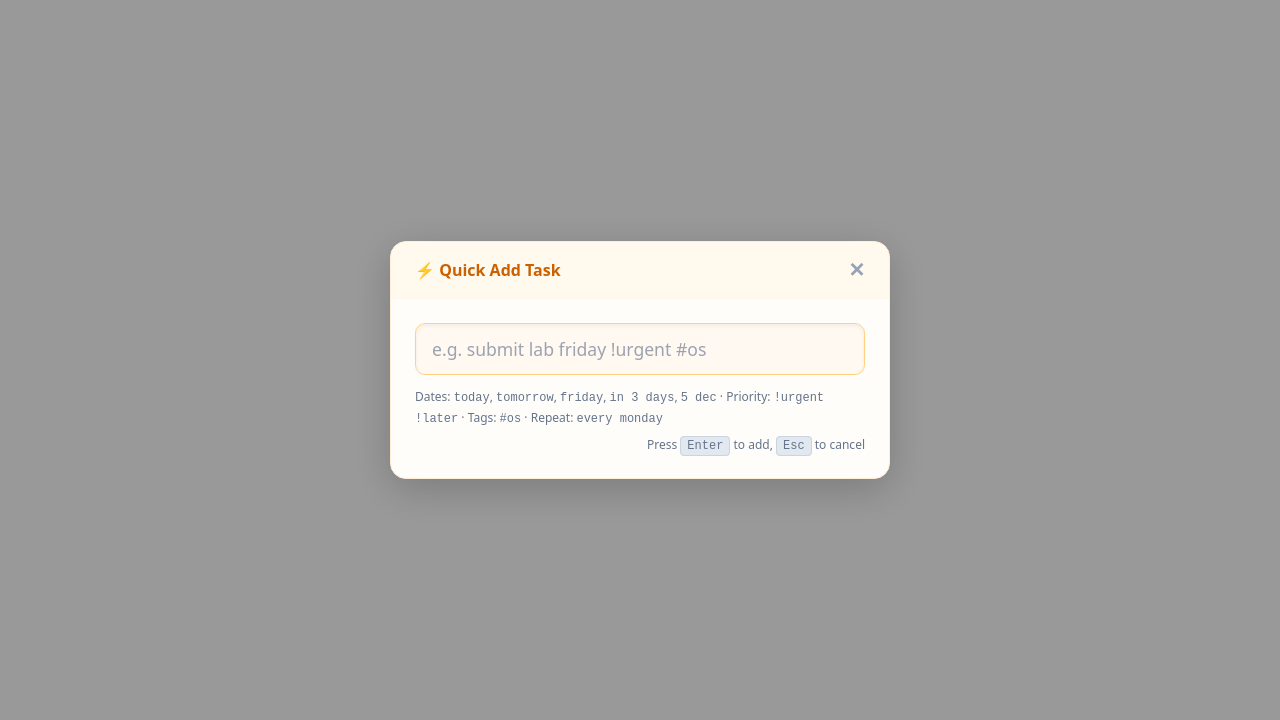
Test: QuickAddModal › previews what will be created
Type "submit lab tomorrow !urgent #os every week https://moodle.example.edu/x" into the field named "Task".
click(640, 349); type("submit lab tomorrow !urgent #os every week https://moodle.example.edu/x")  # box [415, 323, 865, 375]
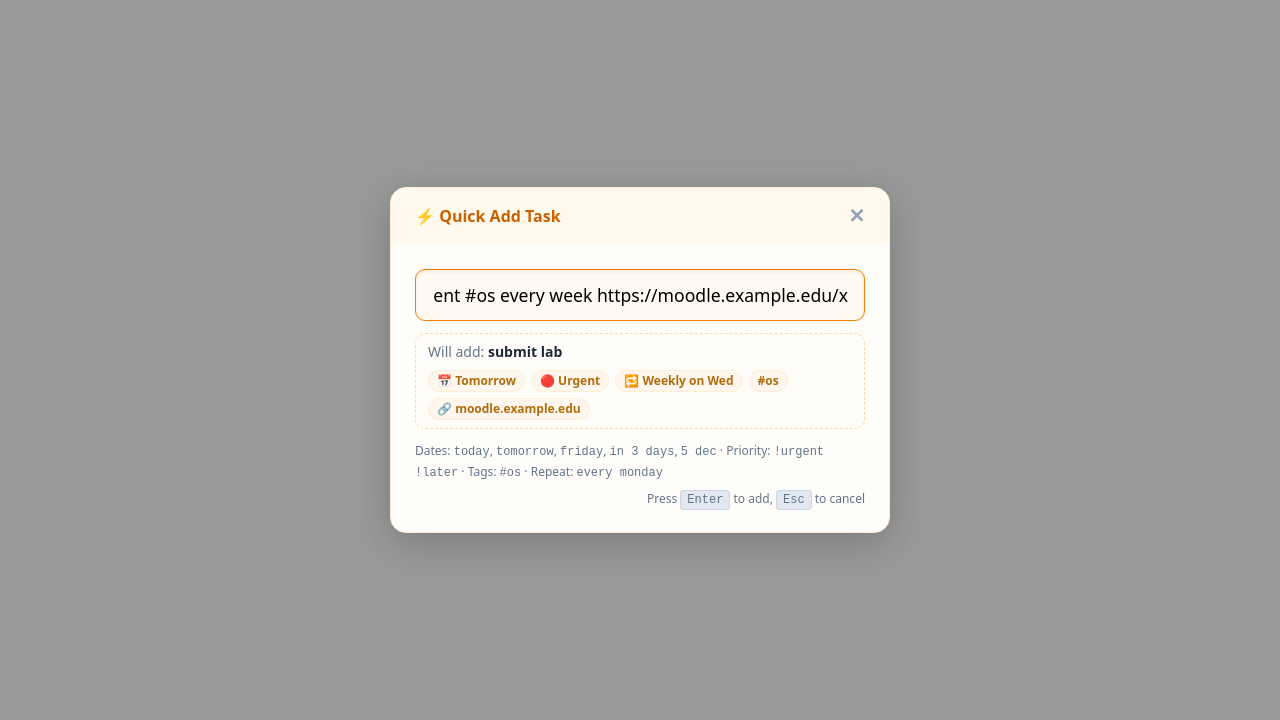
Result: the text "submit lab" is shown at [488, 342, 562, 361]
Result: the text "📅 Tomorrow" is shown at [428, 370, 525, 392]
Result: the text "🔴 Urgent" is shown at [531, 370, 609, 392]
